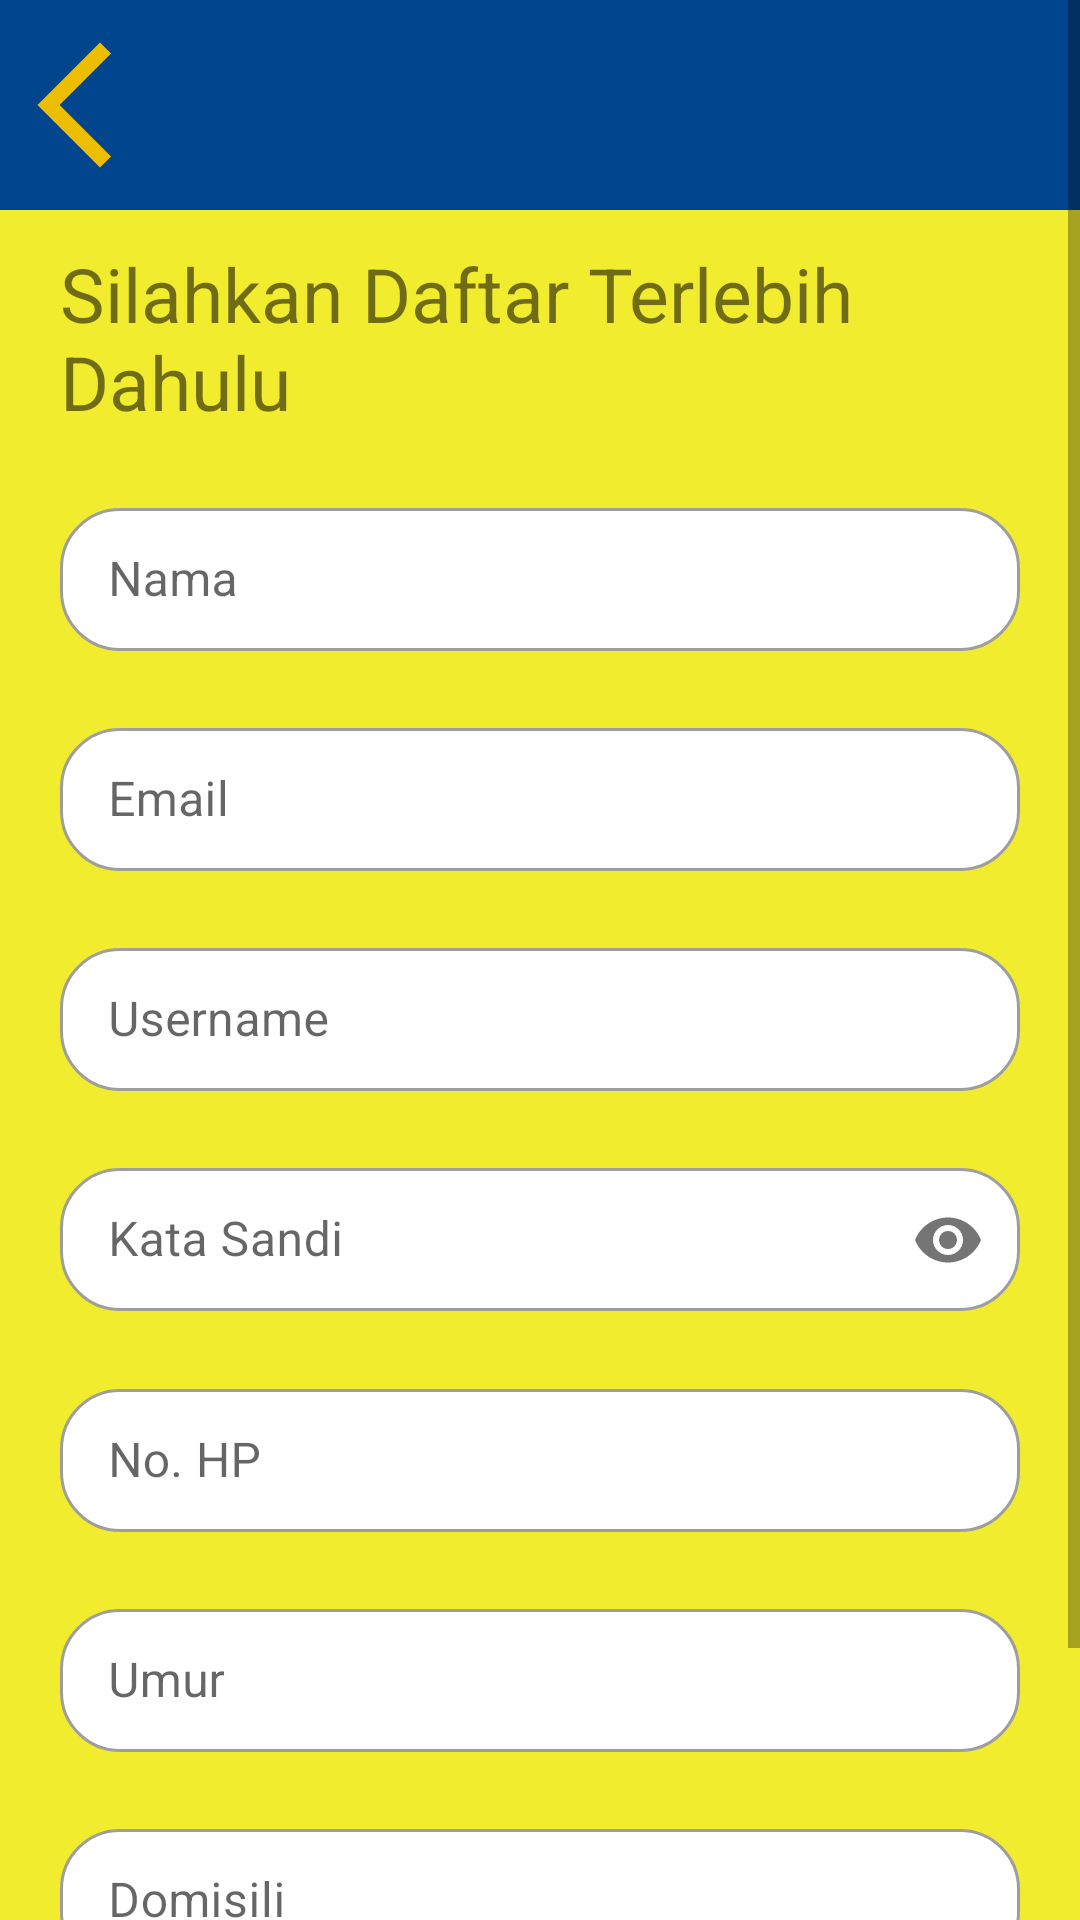

Icon bounding boxes for this 1080×1920 phone screenshot, format [x1,y1,x2,y2]:
arrow back: [37,42,111,168]
